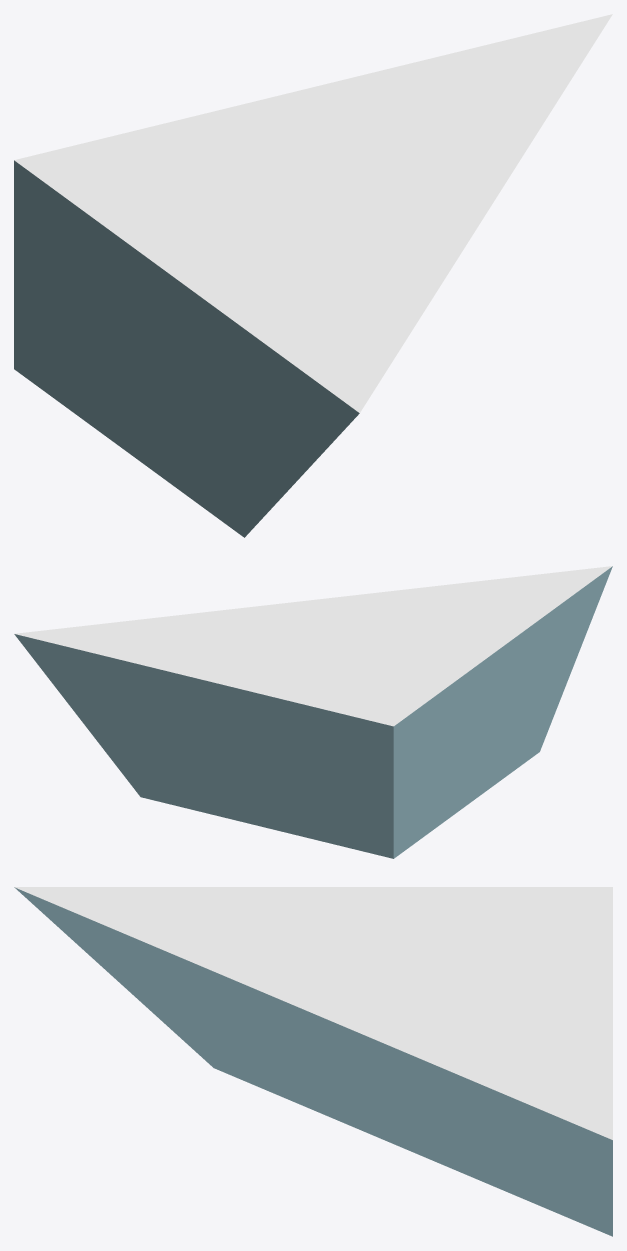
File: Terrain_Tile_Ice_Snow_Ledge_Corner_01.fbx
3 renders of one model, top to bottom at view 1: azimuth 30°, elevation 25°; view 2: azimuth 150°, elevation 25°; view 3: azimuth 270°, elevation 25°, orthographic. The views are drawn at different scales.
Parts seen in each view (by area): view 1: Terrain_Tile_Ice_Snow_Ledge_Corner_01; view 2: Terrain_Tile_Ice_Snow_Ledge_Corner_01; view 3: Terrain_Tile_Ice_Snow_Ledge_Corner_01.
Part boxes in pixels (left/top/right/bottom): Terrain_Tile_Ice_Snow_Ledge_Corner_01: left=14, top=14, right=612, bottom=537; Terrain_Tile_Ice_Snow_Ledge_Corner_01: left=14, top=566, right=612, bottom=858; Terrain_Tile_Ice_Snow_Ledge_Corner_01: left=14, top=887, right=612, bottom=1236.
Size of the model in its own units: 47.24 by 15.75 by 47.24.
